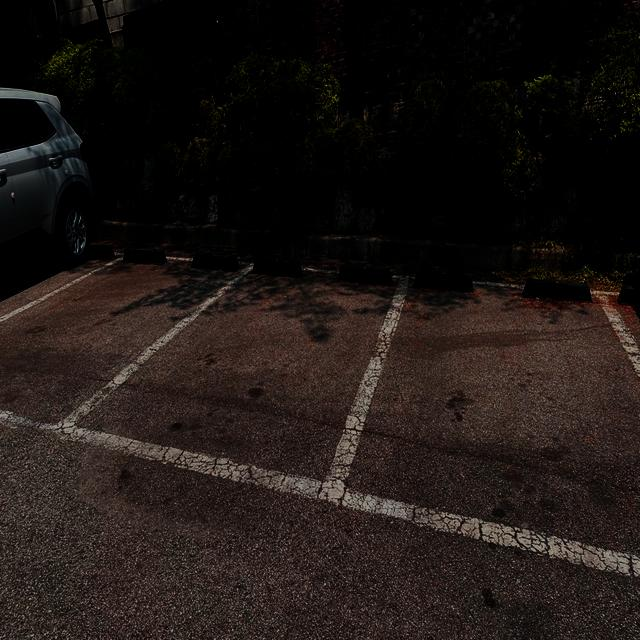empty: (320, 272, 640, 582), (40, 256, 414, 504)
